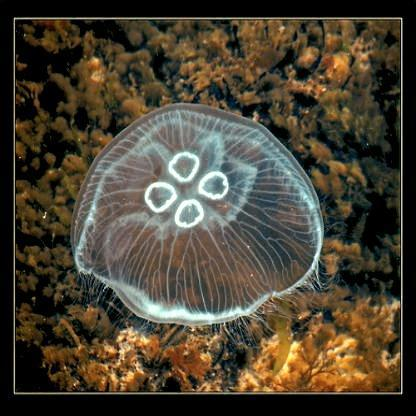Speckle: (71, 105, 331, 325)
